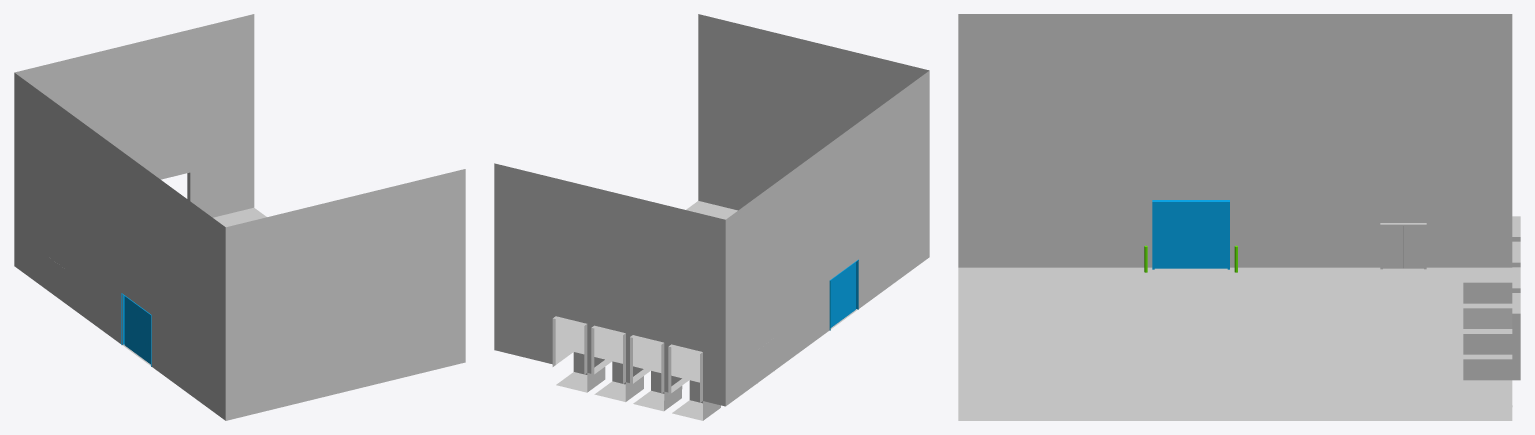
Rendered from MapWarehouse.fbx.
The picture shows the model from 3 angles, left to right: view 1: azimuth 30°, elevation 25°; view 2: azimuth 150°, elevation 25°; view 3: azimuth 270°, elevation 25°; orthographic projection. The views are drawn at different scales.
Visible parts, largest first — view 1: Room, GarageDoor; view 2: Room, GarageDoor; view 3: Room, GarageDoor, GarageDoor.001.
Boxes of the visible parts, bbox=[...] form: Room: bbox=[14, 14, 465, 420]; GarageDoor: bbox=[121, 293, 151, 366]; Room: bbox=[494, 14, 929, 420]; GarageDoor: bbox=[829, 259, 858, 330]; Room: bbox=[958, 14, 1520, 420]; GarageDoor: bbox=[1152, 200, 1229, 269]; GarageDoor.001: bbox=[1380, 223, 1426, 269].
Size of the model in its own units: 298 by 254 by 461.
Materials: 1 (1 with a texture image).
